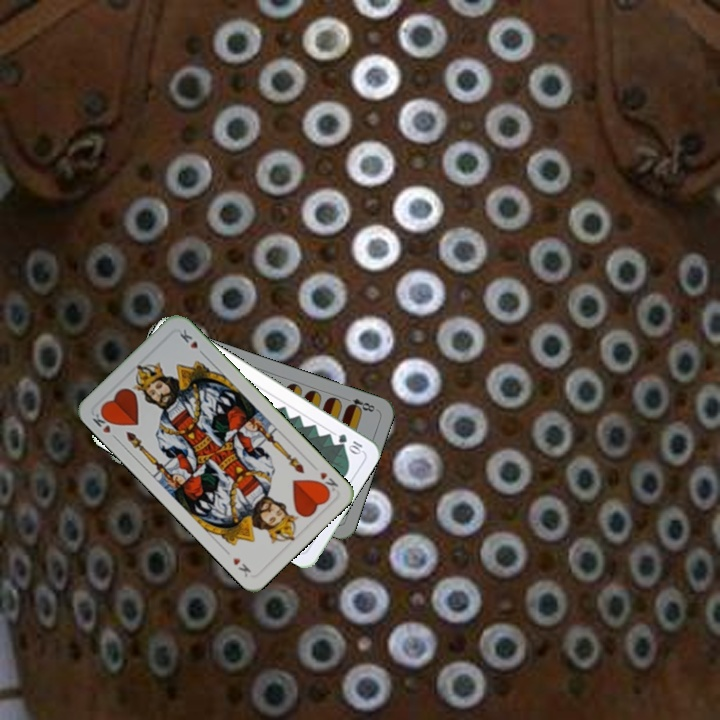E8: (340, 393, 379, 415)
G10: (334, 429, 365, 456)
HK: (88, 406, 116, 436), (313, 468, 341, 496)
